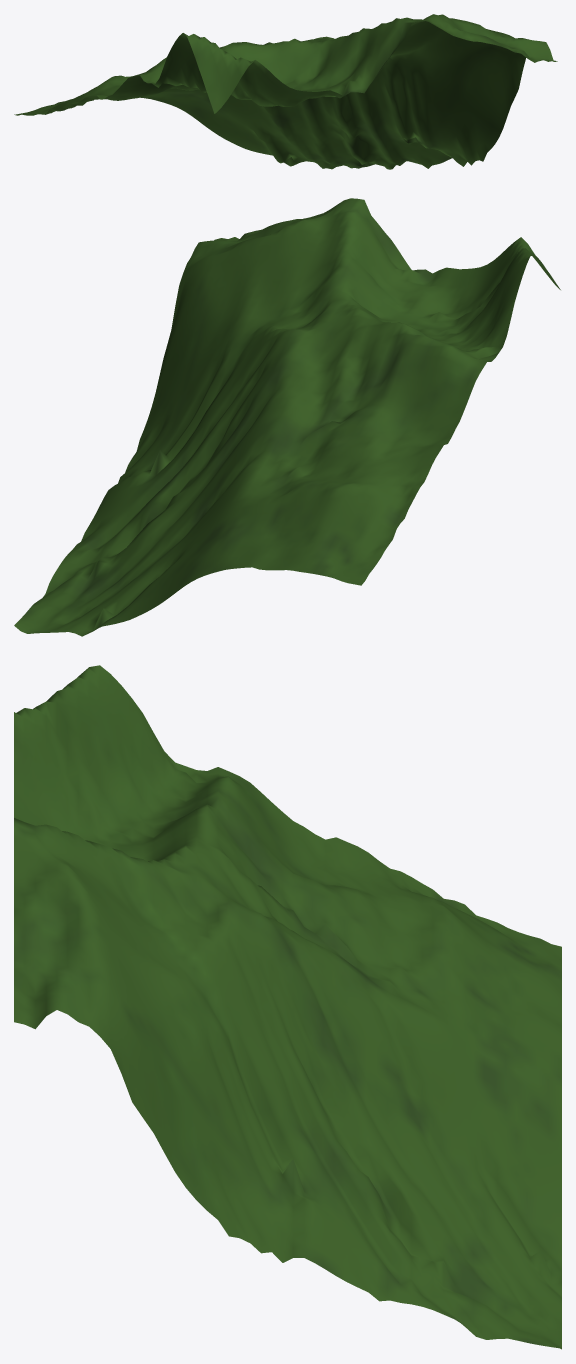
Rendered from chunk12-14_LOD0.obj.
3 renders of one model, top to bottom at view 1: azimuth 30°, elevation 25°; view 2: azimuth 150°, elevation 25°; view 3: azimuth 270°, elevation 25°, orthographic. The views are drawn at different scales.
Parts seen in each view (by area): view 1: chunk_12_14_LOD0; view 2: chunk_12_14_LOD0; view 3: chunk_12_14_LOD0.
Part boxes in pixels (x1,y1,x2,y2): chunk_12_14_LOD0: (14,14,557,169); chunk_12_14_LOD0: (14,198,560,636); chunk_12_14_LOD0: (14,665,561,1349).
Bounding box in the file's own units: 1994 × 1843 × 1994.
1 material, 1 textured.
